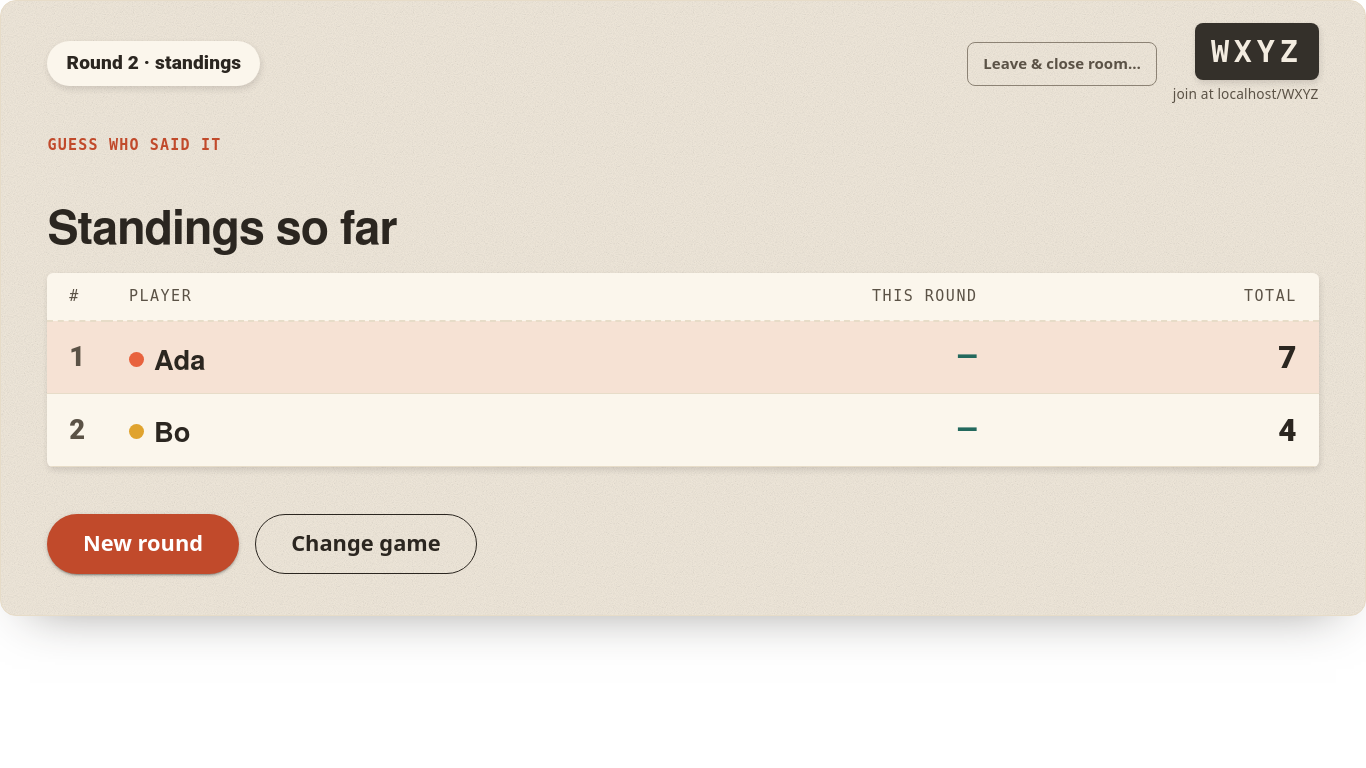
Test: session UI — round, standings, and the host exits (10) › at the game-over screen shows cumulative standings + a way to change game
Check: the heading "Standings so far" is shown, box [47,192,397,258]
Check: the text "Round 2 · standings" is shown, box [47,41,260,86]
// "Change game" now confirms first, then re-opens the picker (F7).
Click the button "Change game" at x=366, y=544, box [255,514,477,574]
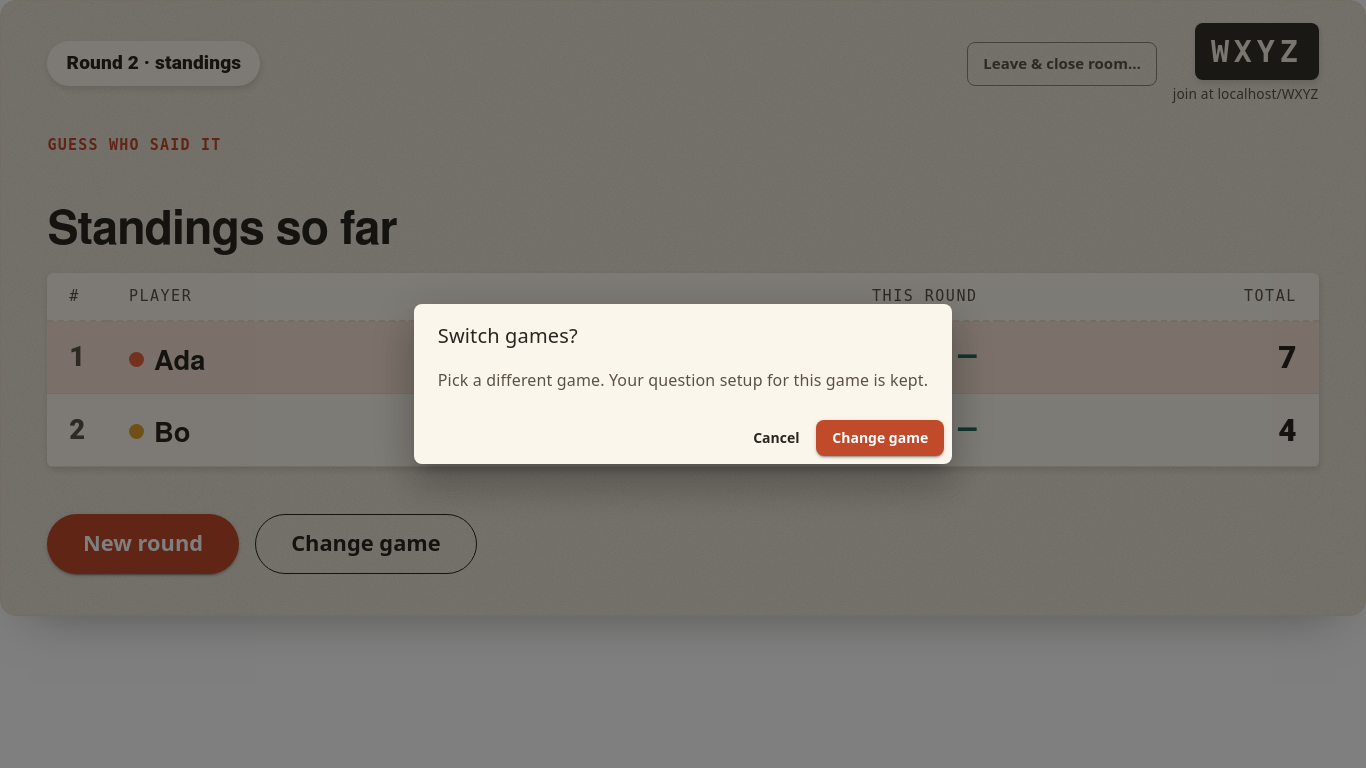
Click the button "Change game" at x=880, y=438, box [816,420,944,456]
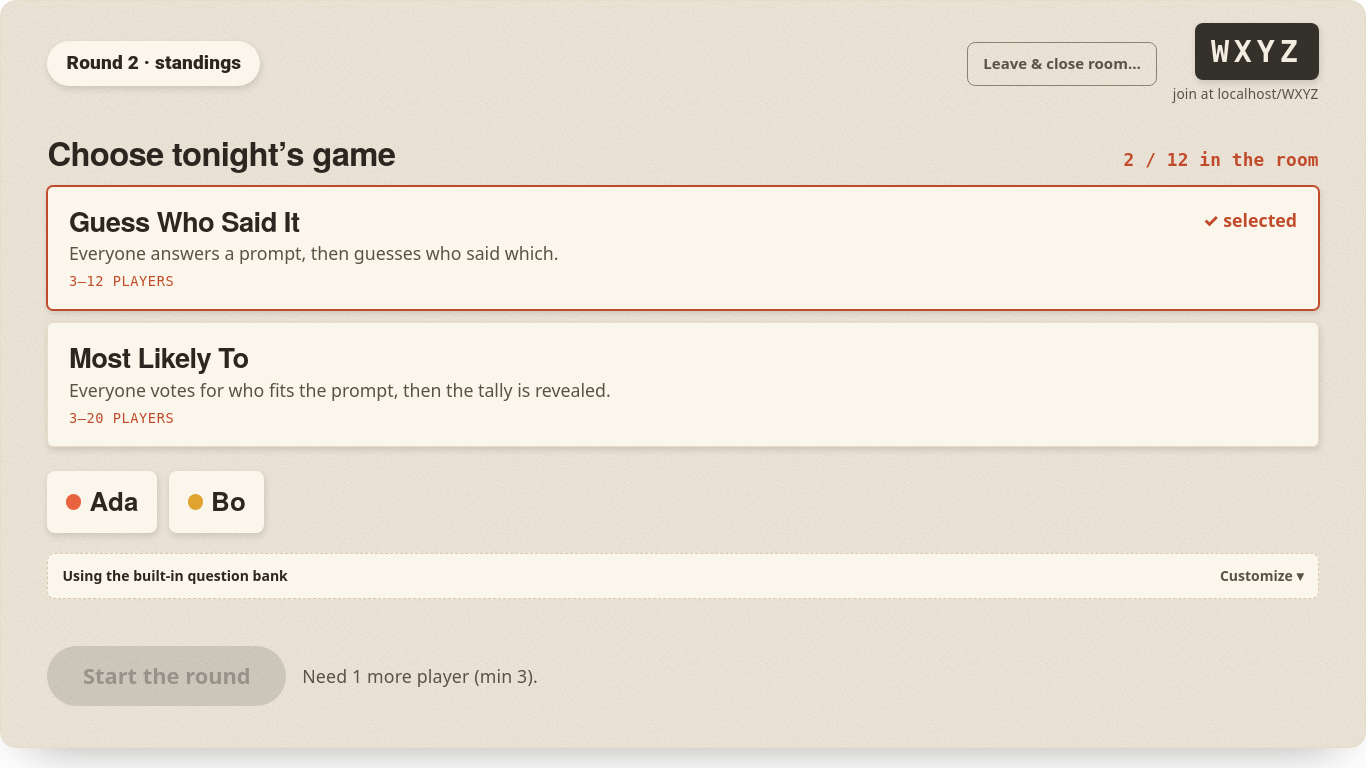
Check: the heading "Choose tonight’s game" is shown, box [47,134,395,172]
